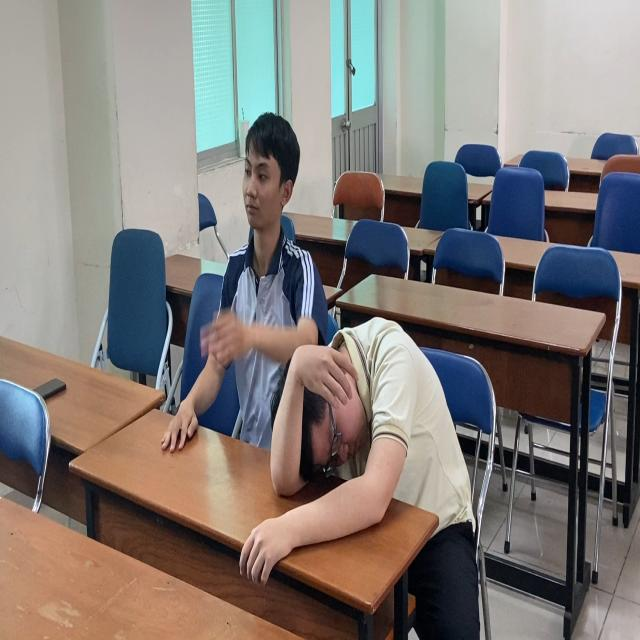sleep: (247, 308, 476, 589)
